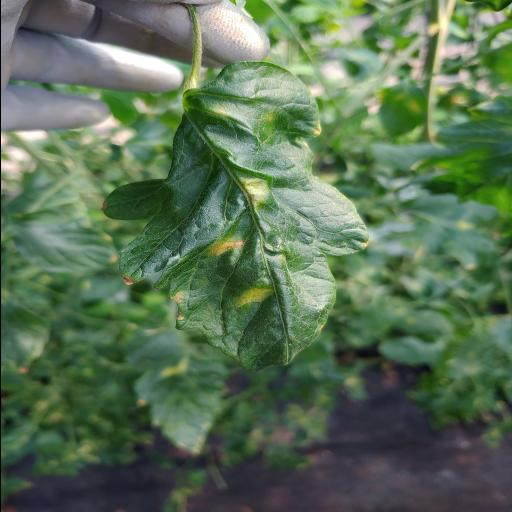Leaf Mold: (99, 61, 374, 370)
